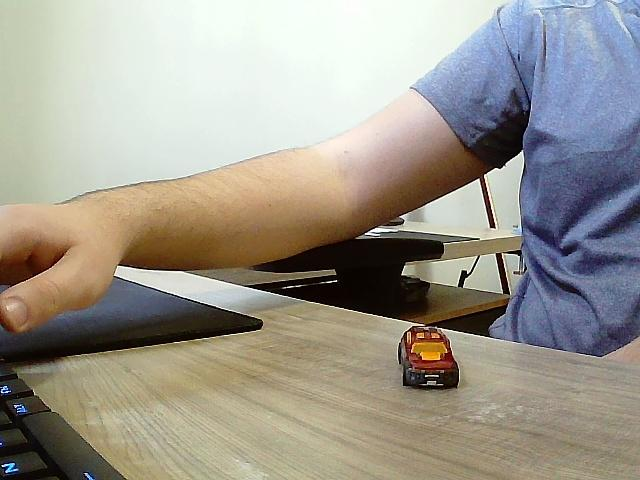Carro: (398, 325, 459, 390)
